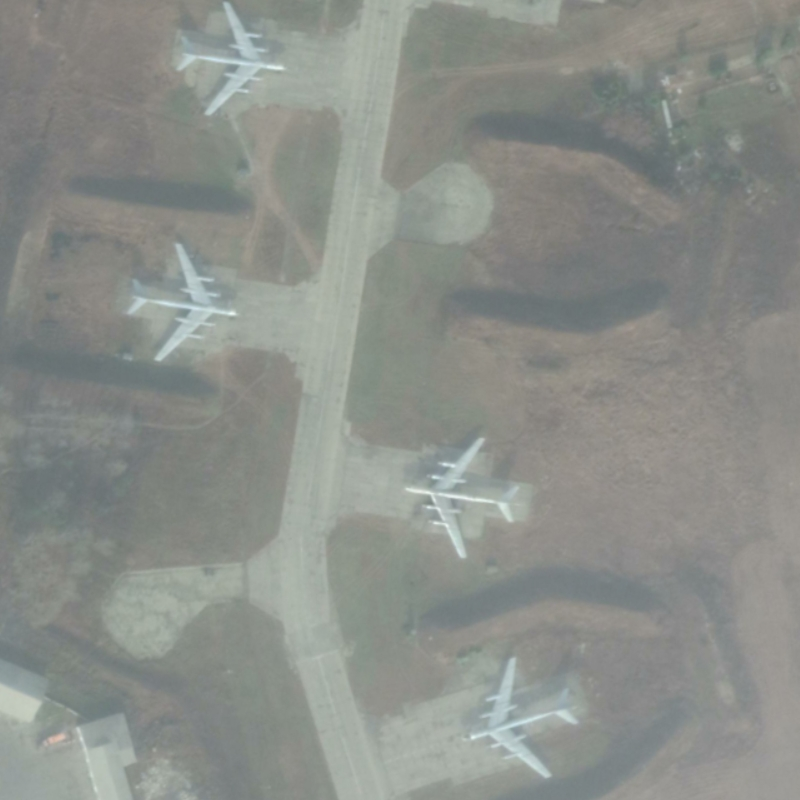A17: (461, 655, 580, 780), (403, 436, 521, 561), (125, 241, 239, 364), (174, 1, 288, 118)
